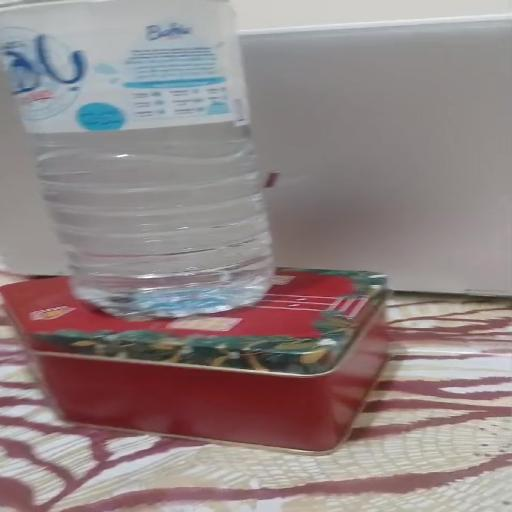bouteille non conformite: (0, 2, 359, 318)
